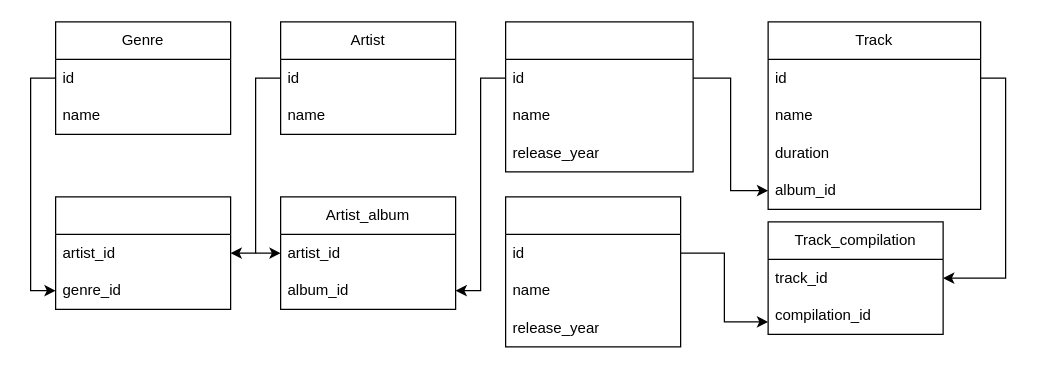
This 1038x369 diagram has some shape labels left out. The shapes that lost their labels are listed below. From the top down, each one's box as (x1, y1, x2, y2) in pixels, then its label:
(504, 21, 693, 172): Album
(54, 196, 231, 309): Artist_genre
(504, 196, 681, 347): Compilation
